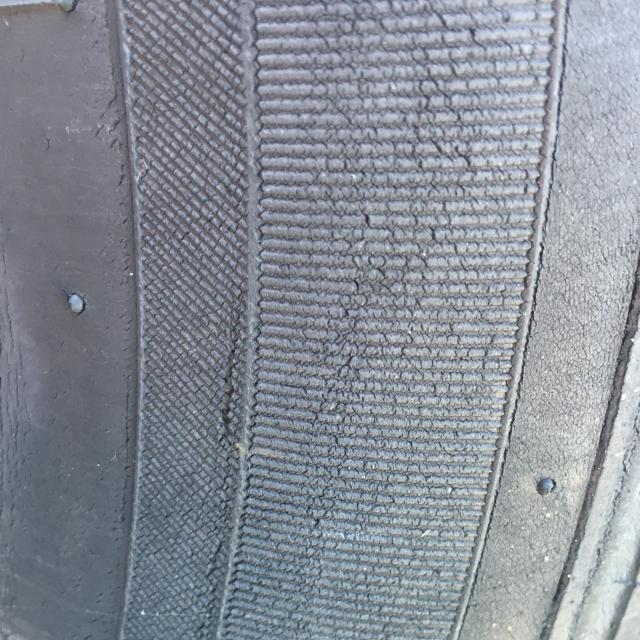Cracks: (165, 0, 556, 640), (0, 286, 36, 626)
